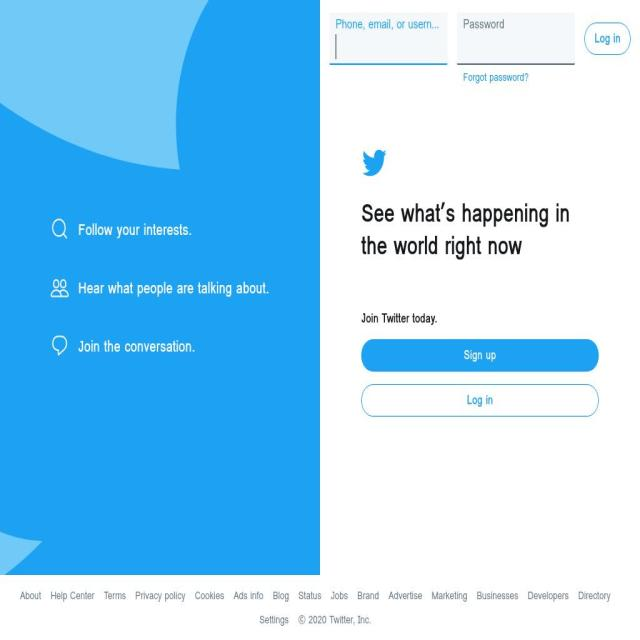button: (361, 339, 599, 373), (361, 384, 599, 418), (584, 23, 630, 55), (135, 588, 195, 604), (50, 588, 104, 604), (476, 588, 528, 604), (528, 588, 578, 604), (431, 588, 477, 604), (388, 588, 432, 604), (578, 588, 621, 604), (194, 588, 234, 604), (233, 588, 273, 604), (259, 612, 299, 628), (298, 588, 331, 604), (104, 588, 136, 604), (357, 588, 389, 604), (20, 588, 50, 604), (330, 588, 358, 604), (272, 588, 298, 604)
field: (456, 32, 576, 64), (329, 32, 448, 64)
image: (362, 145, 388, 181), (50, 333, 70, 358), (50, 217, 70, 241), (50, 275, 70, 299)
text: (362, 193, 576, 266), (78, 275, 270, 300), (78, 216, 193, 242), (78, 334, 196, 358), (336, 14, 450, 34), (362, 308, 438, 329), (298, 611, 372, 628), (463, 68, 529, 86), (135, 587, 186, 604), (463, 14, 505, 34), (50, 587, 94, 604), (476, 587, 518, 604), (528, 587, 570, 604), (464, 345, 497, 366), (432, 587, 468, 604), (388, 587, 423, 604), (467, 390, 494, 411), (578, 587, 611, 604), (594, 28, 622, 48), (194, 587, 224, 604), (233, 587, 263, 604), (260, 611, 290, 628), (298, 587, 322, 604), (19, 587, 42, 604), (104, 587, 126, 604), (357, 587, 379, 604), (272, 587, 290, 604), (331, 587, 348, 604)
